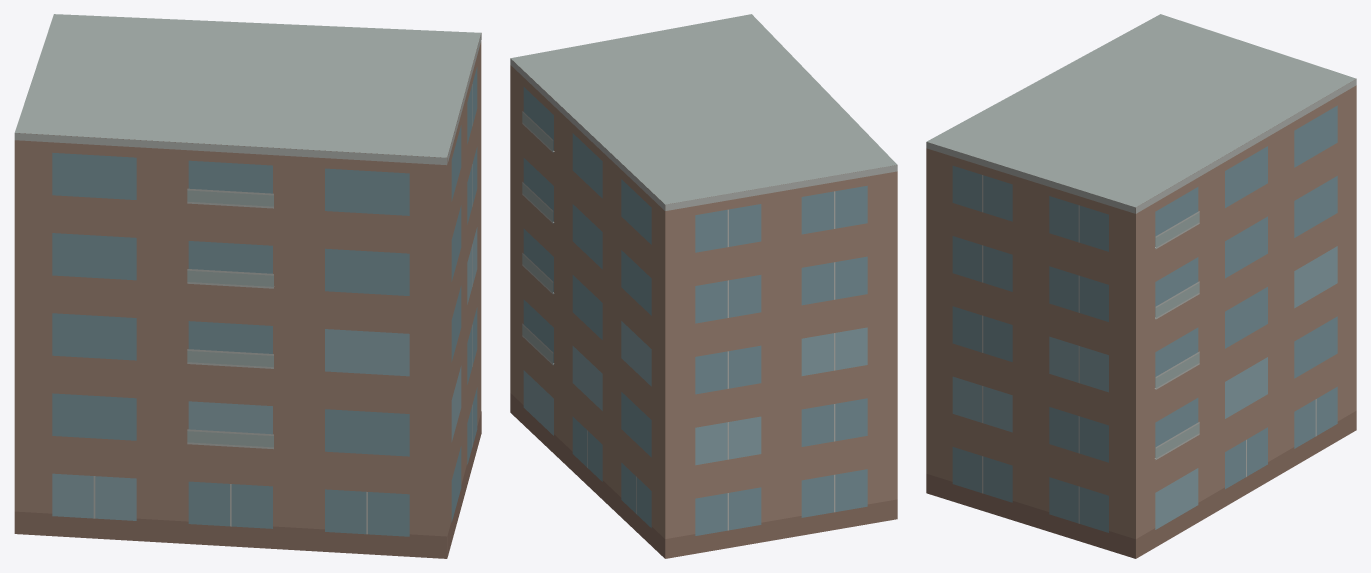
The model's file is survey-upis-32846920.glb.
3 views of the same model, side by side, from view 1: azimuth 30°, elevation 25°; view 2: azimuth 150°, elevation 25°; view 3: azimuth 270°, elevation 25° (orthographic). The views are drawn at different scales.
Visible parts, largest first — view 1: survey-upis-32846920.tmp; view 2: survey-upis-32846920.tmp; view 3: survey-upis-32846920.tmp.
Part boxes in pixels (x1,y1,x2,y2): survey-upis-32846920.tmp: (14,14,481,558); survey-upis-32846920.tmp: (510,14,897,558); survey-upis-32846920.tmp: (926,14,1356,558).
Bounding box in the file's own units: 15.59 × 13.2 × 14.66.
